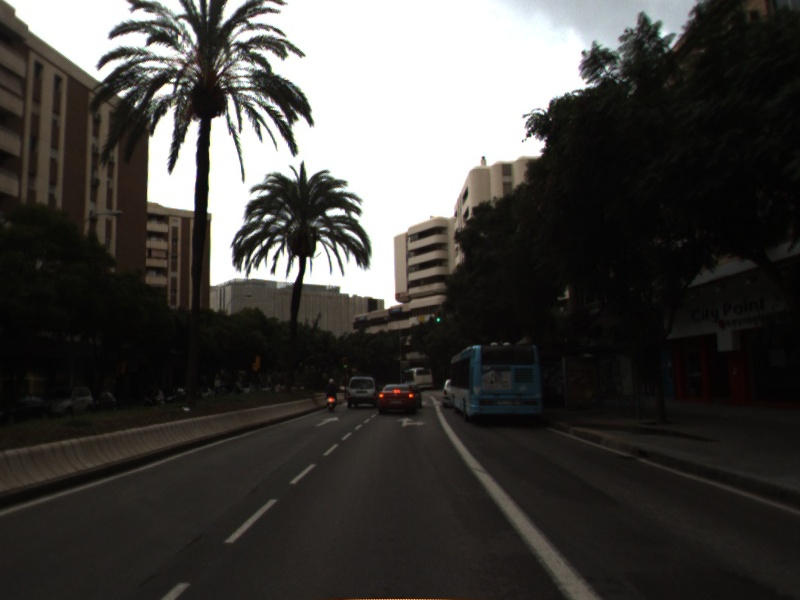STRAIGHT: (313, 415, 342, 429)
STRAIGHT_RIGHT: (394, 415, 428, 429)
